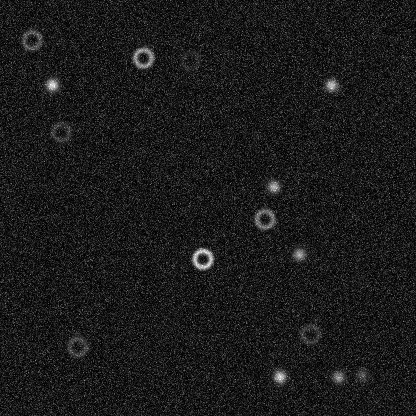Ring: (178, 48, 202, 72), (298, 322, 322, 346), (48, 119, 72, 143), (19, 27, 43, 51), (131, 45, 155, 69), (190, 246, 214, 270), (65, 334, 89, 358), (252, 206, 276, 230)
Spot: (44, 76, 60, 92), (330, 369, 346, 385), (291, 246, 307, 262), (323, 77, 339, 93), (265, 178, 281, 194), (271, 368, 287, 384), (353, 366, 369, 382)
